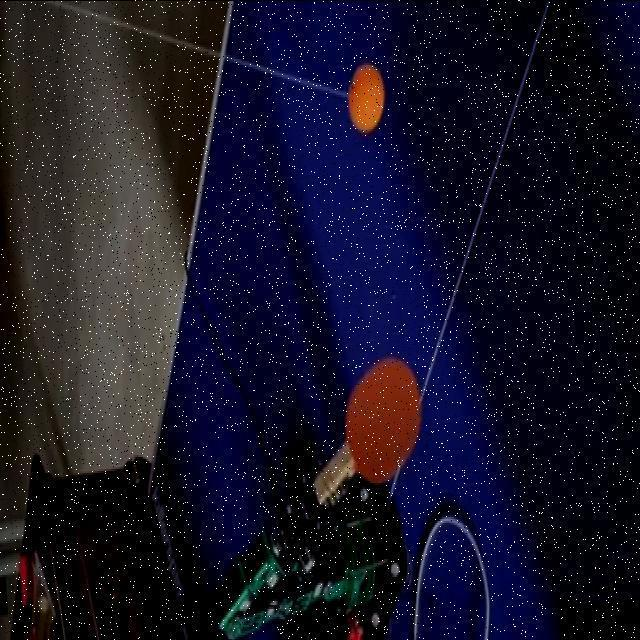ping-pong-ball: (347, 64, 383, 130)
